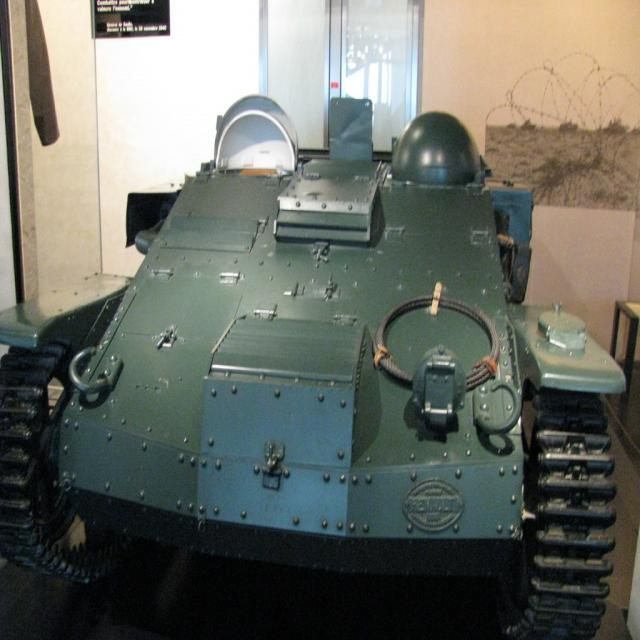tank: (0, 93, 628, 639)
